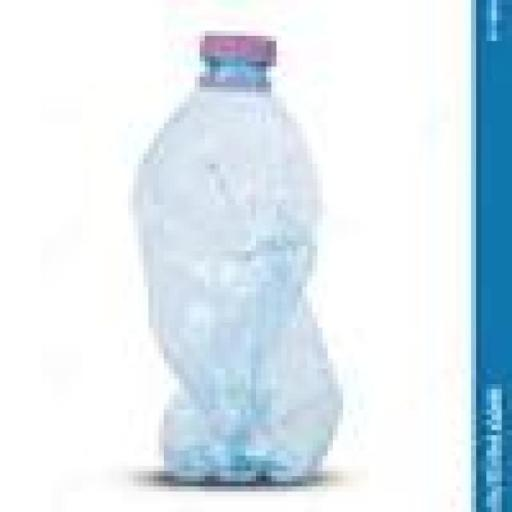plastic: (122, 20, 352, 488)
